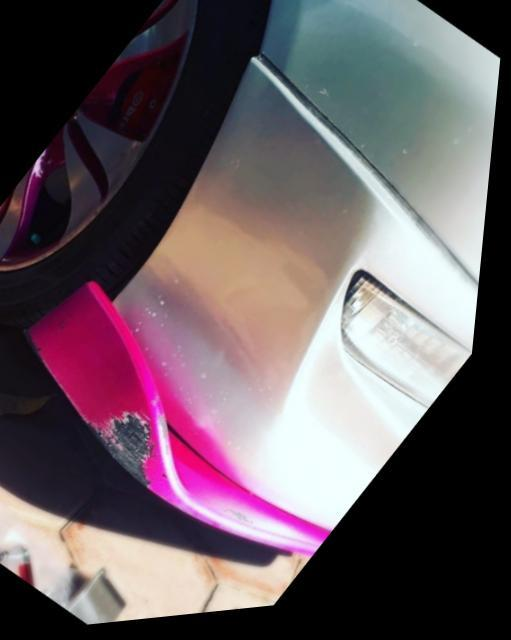scratch: (94, 415, 162, 490)
